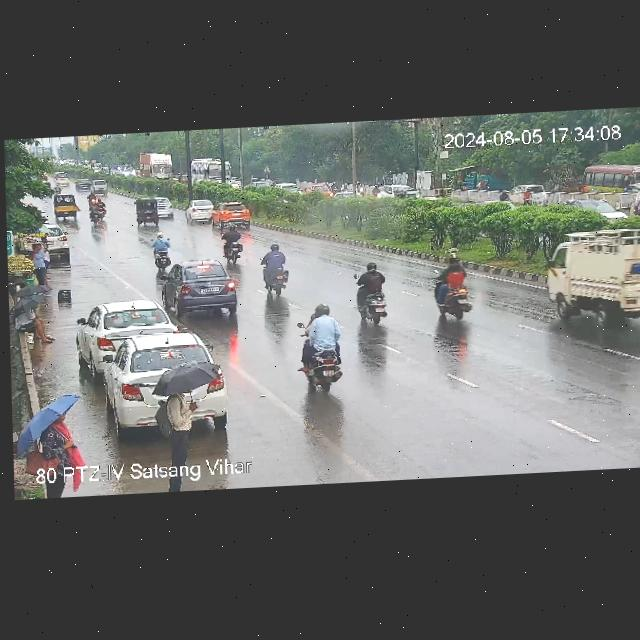bus: (582, 160, 640, 207), (189, 156, 237, 188)
car: (112, 332, 213, 432), (86, 302, 168, 368), (172, 260, 240, 314), (570, 197, 624, 220), (215, 203, 256, 225), (505, 183, 542, 205), (185, 198, 218, 222), (383, 182, 418, 203), (136, 199, 159, 226), (159, 200, 178, 220), (97, 201, 110, 223)
motorcycle: (301, 311, 343, 401), (434, 257, 471, 321), (357, 261, 389, 327), (217, 222, 244, 261), (262, 249, 289, 287), (155, 236, 170, 264)
person: (162, 383, 193, 488), (38, 415, 67, 499), (15, 300, 48, 348), (37, 225, 73, 260), (33, 240, 51, 290)
truck: (542, 226, 640, 313), (140, 153, 176, 183), (52, 191, 78, 221)
